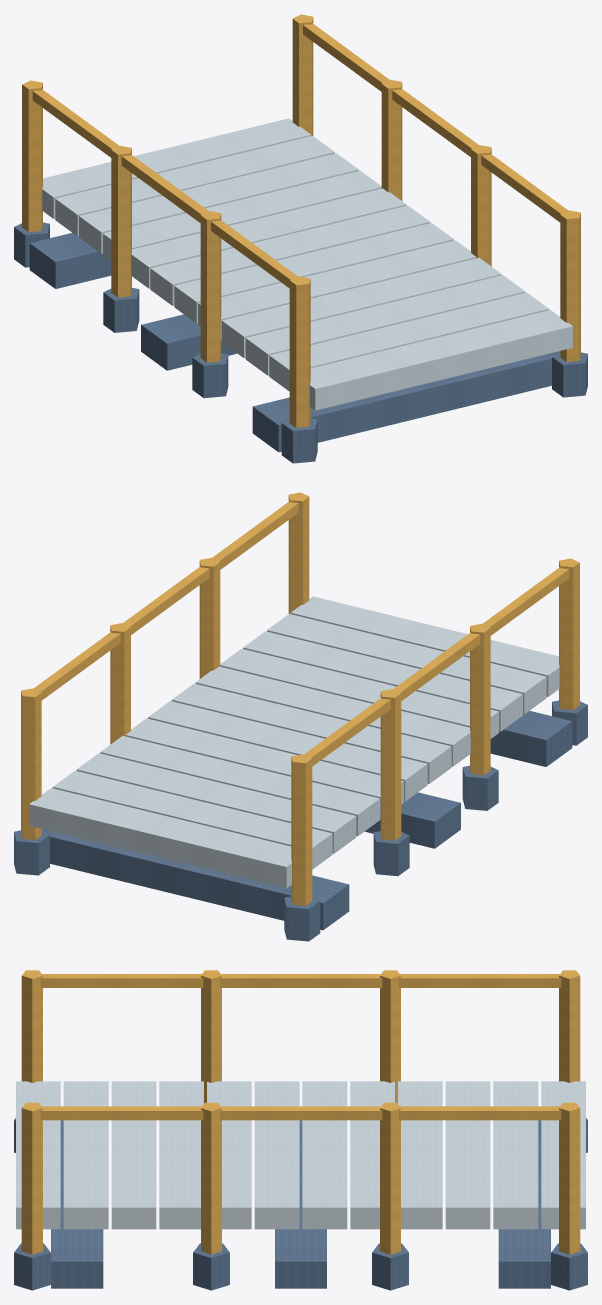
The model's file is atlas100-s058-a01.lod1.glb.
The picture shows the model from 3 angles, top to bottom: view 1: azimuth 30°, elevation 25°; view 2: azimuth 150°, elevation 25°; view 3: azimuth 270°, elevation 25°; orthographic projection.
Parts seen in each view (by area): view 1: atlas100-s058-a01:part-011, atlas100-s058-a01:part-032, atlas100-s058-a01:part-008, atlas100-s058-a01:part-009, atlas100-s058-a01:part-010, atlas100-s058-a01:part-005, atlas100-s058-a01:part-002, atlas100-s058-a01:part-001, atlas100-s058-a01:part-006, atlas100-s058-a01:part-004, atlas100-s058-a01:part-000, atlas100-s058-a01:part-007 (+18 smaller); view 2: atlas100-s058-a01:part-000, atlas100-s058-a01:part-030, atlas100-s058-a01:part-003, atlas100-s058-a01:part-002, atlas100-s058-a01:part-001, atlas100-s058-a01:part-006, atlas100-s058-a01:part-009, atlas100-s058-a01:part-010, atlas100-s058-a01:part-005, atlas100-s058-a01:part-007, atlas100-s058-a01:part-011, atlas100-s058-a01:part-004 (+18 smaller); view 3: atlas100-s058-a01:part-029, atlas100-s058-a01:part-020, atlas100-s058-a01:part-001, atlas100-s058-a01:part-005, atlas100-s058-a01:part-006, atlas100-s058-a01:part-010, atlas100-s058-a01:part-002, atlas100-s058-a01:part-009, atlas100-s058-a01:part-003, atlas100-s058-a01:part-008, atlas100-s058-a01:part-004, atlas100-s058-a01:part-007 (+17 smaller).
Boxes of the visible parts, x1,y1,x2,y2 form: atlas100-s058-a01:part-011: [310, 310, 572, 410]; atlas100-s058-a01:part-032: [252, 351, 560, 452]; atlas100-s058-a01:part-008: [221, 257, 501, 358]; atlas100-s058-a01:part-009: [245, 275, 525, 375]; atlas100-s058-a01:part-010: [269, 292, 549, 391]; atlas100-s058-a01:part-005: [150, 205, 430, 305]; atlas100-s058-a01:part-002: [79, 153, 358, 253]; atlas100-s058-a01:part-001: [55, 136, 334, 236]; atlas100-s058-a01:part-006: [174, 223, 453, 323]; atlas100-s058-a01:part-004: [131, 188, 406, 288]; atlas100-s058-a01:part-000: [42, 118, 311, 218]; atlas100-s058-a01:part-007: [198, 240, 476, 340]; atlas100-s058-a01:part-000: [29, 788, 291, 888]; atlas100-s058-a01:part-030: [41, 829, 349, 930]; atlas100-s058-a01:part-003: [100, 735, 380, 836]; atlas100-s058-a01:part-002: [76, 753, 356, 853]; atlas100-s058-a01:part-001: [52, 770, 332, 869]; atlas100-s058-a01:part-006: [171, 683, 451, 783]; atlas100-s058-a01:part-009: [243, 631, 522, 731]; atlas100-s058-a01:part-010: [267, 614, 546, 714]; atlas100-s058-a01:part-005: [148, 701, 427, 801]; atlas100-s058-a01:part-007: [195, 666, 470, 766]; atlas100-s058-a01:part-011: [290, 596, 559, 696]; atlas100-s058-a01:part-004: [125, 718, 403, 818]; atlas100-s058-a01:part-029: [40, 1106, 561, 1120]; atlas100-s058-a01:part-020: [40, 974, 561, 987]; atlas100-s058-a01:part-001: [493, 1081, 538, 1229]; atlas100-s058-a01:part-005: [302, 1081, 347, 1229]; atlas100-s058-a01:part-006: [254, 1081, 299, 1229]; atlas100-s058-a01:part-010: [63, 1081, 108, 1229]; atlas100-s058-a01:part-002: [445, 1081, 490, 1229]; atlas100-s058-a01:part-009: [111, 1081, 156, 1229]; atlas100-s058-a01:part-003: [398, 1081, 442, 1229]; atlas100-s058-a01:part-008: [159, 1081, 203, 1229]; atlas100-s058-a01:part-004: [350, 1081, 394, 1229]; atlas100-s058-a01:part-007: [207, 1081, 251, 1229].
Size of the model in its own units: 2.34 by 1.3 by 3.85.
Materials: 3 (3 with a texture image).
